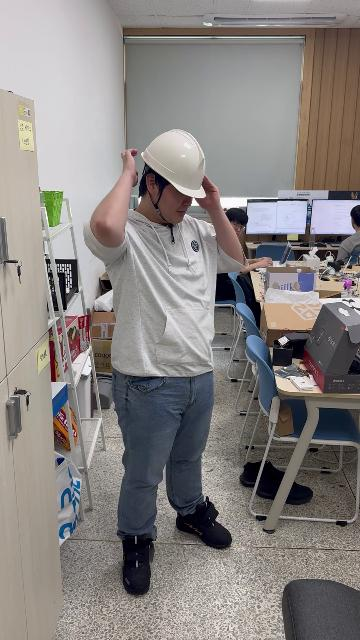helmet_worn: (140, 127, 208, 198)
shoe_not_worn: (241, 460, 311, 502)
shoe_worn: (175, 495, 231, 548), (121, 535, 155, 594)
vest_not_worn: (106, 209, 221, 387)
